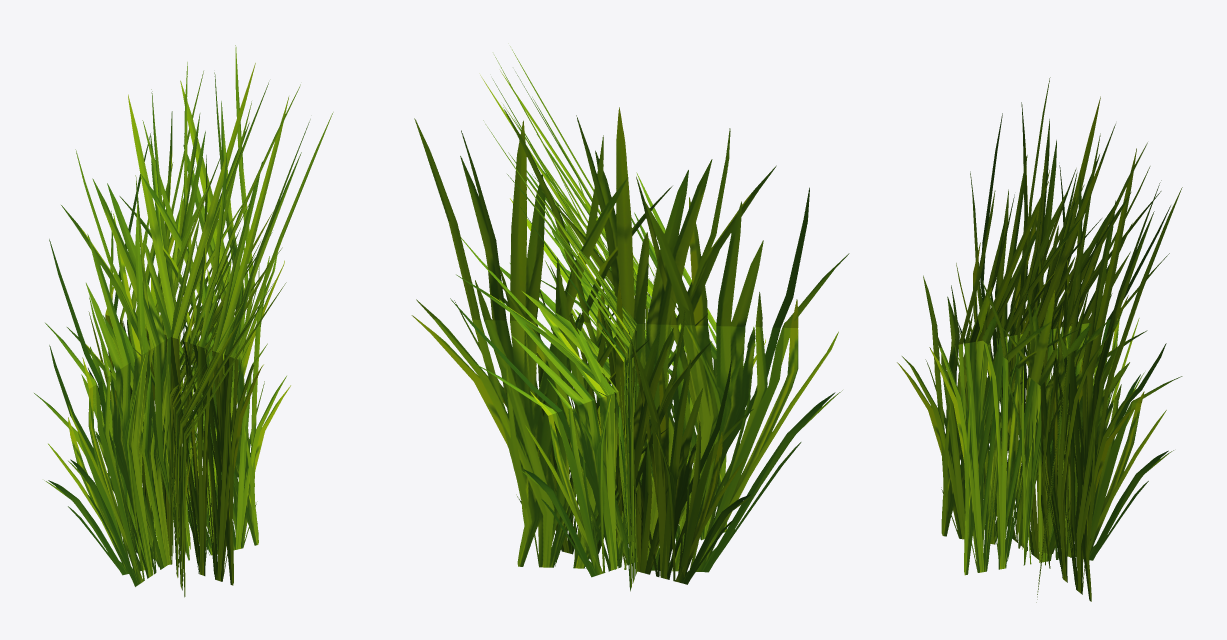
The model's file is green_grass.glb.
The picture shows the model from 3 angles, left to right: view 1: azimuth 30°, elevation 25°; view 2: azimuth 150°, elevation 25°; view 3: azimuth 270°, elevation 25°; orthographic projection. The views are drawn at different scales.
Visible parts, largest first — view 1: grass-bushes-02_grass-stylized-02_0; view 2: grass-bushes-02_grass-stylized-02_0; view 3: grass-bushes-02_grass-stylized-02_0.
Part boxes in pixels (box(x1,y1,x2,y2)): grass-bushes-02_grass-stylized-02_0: box(34, 45, 333, 597); grass-bushes-02_grass-stylized-02_0: box(411, 46, 849, 591); grass-bushes-02_grass-stylized-02_0: box(897, 77, 1182, 602).
Size of the model in its own units: 0.549 by 0.7127 by 0.4434.
Materials: 1 (1 with a texture image).
